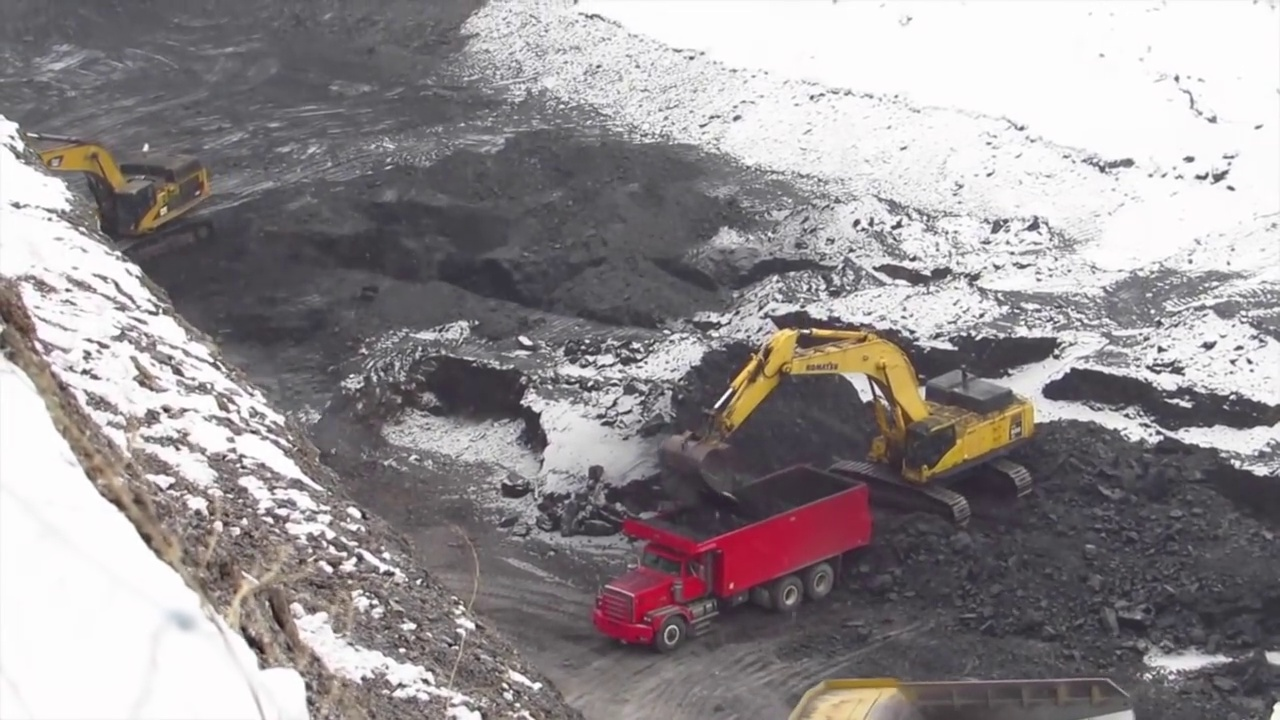excavator: (656, 326, 1041, 530), (17, 125, 218, 269)
truck: (589, 462, 877, 651)
